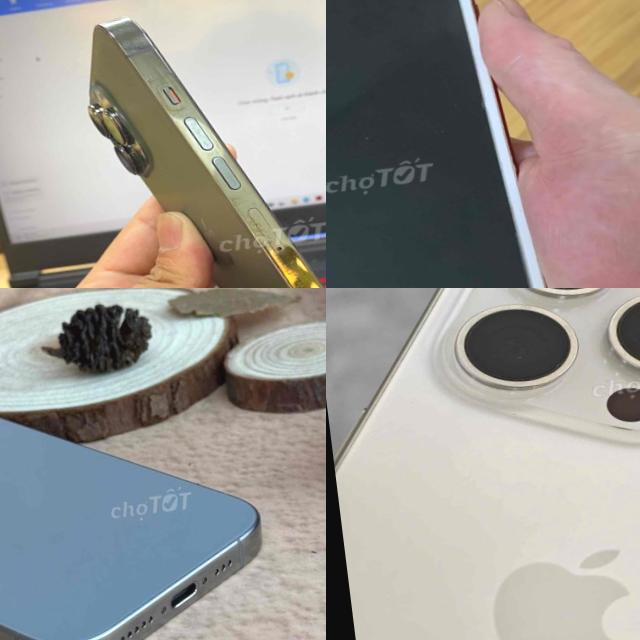gen_12_13: (63, 0, 326, 288)
gen_15: (326, 288, 640, 640), (0, 311, 285, 640)
gen_7_8: (326, 0, 582, 288)
